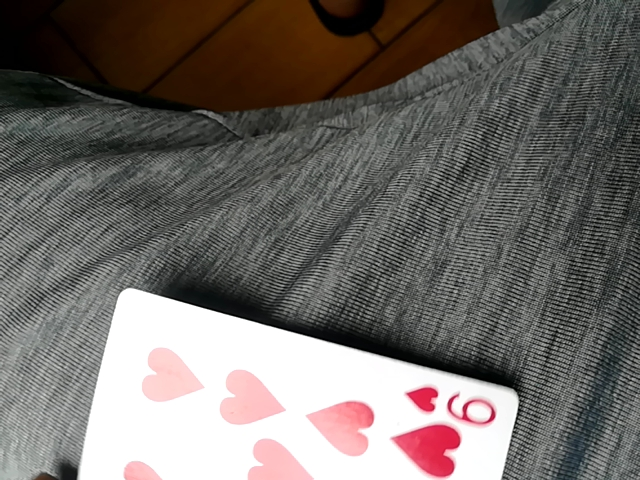hx 9: (76, 289, 513, 480)
